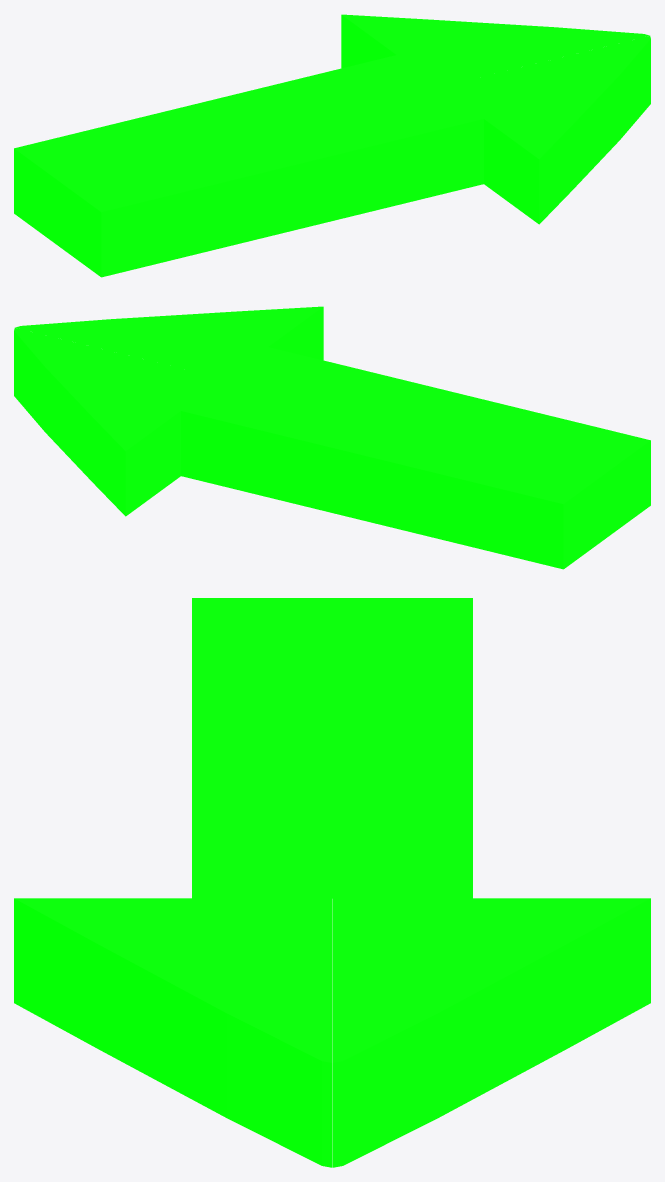
File: arrow.gltf
The picture shows the model from 3 angles, top to bottom: view 1: azimuth 30°, elevation 25°; view 2: azimuth 150°, elevation 25°; view 3: azimuth 270°, elevation 25°; orthographic projection. The views are drawn at different scales.
Visible parts, largest first — view 1: Cube.001_Cube.002; view 2: Cube.001_Cube.002; view 3: Cube.001_Cube.002.
Boxes of the visible parts, box(x1,y1,x2,y2) form: Cube.001_Cube.002: box(14, 14, 650, 277); Cube.001_Cube.002: box(14, 306, 650, 569); Cube.001_Cube.002: box(14, 598, 650, 1167).
Bounding box in the file's own units: 10.34 × 1.09 × 5.99.
